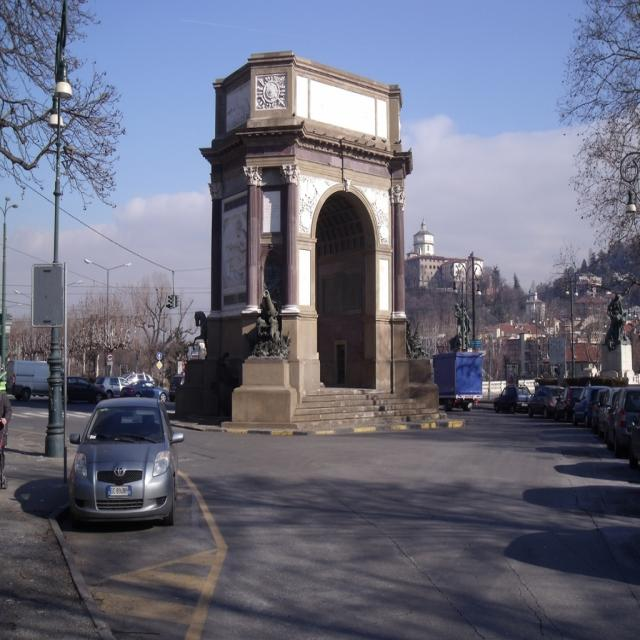car: (62, 384, 176, 532)
